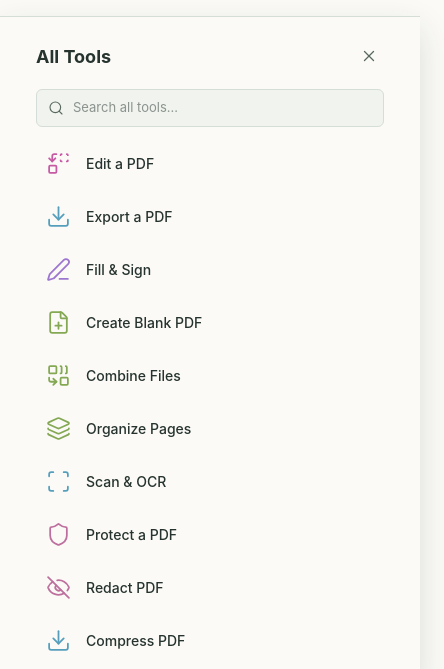
ToolPanel › lists every tool in All mode and filters by search
expect the text "Organize Pages" is shown: met, box [86,418,191,439]
In the search field named "Search tools": (210, 108) [36,89,384,126], type "bates"
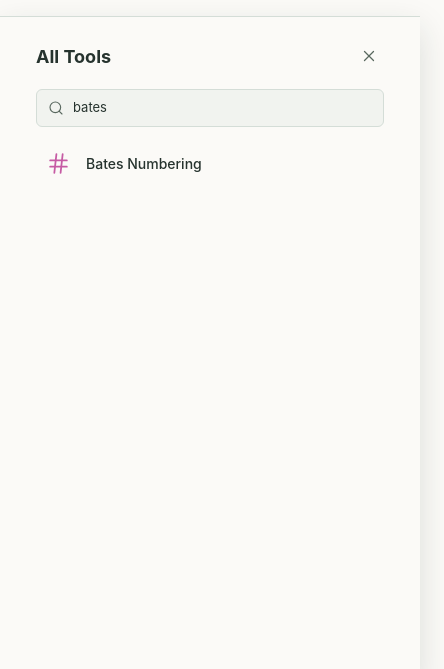
expect the text "Bates Numbering" is shown: met, box [86,153,202,174]
expect the button "Organize Pages" is gone: met
